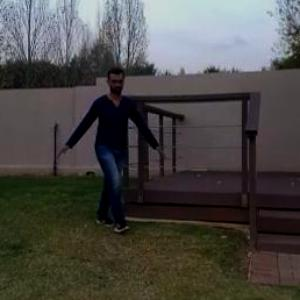land: (53, 57, 170, 257)
